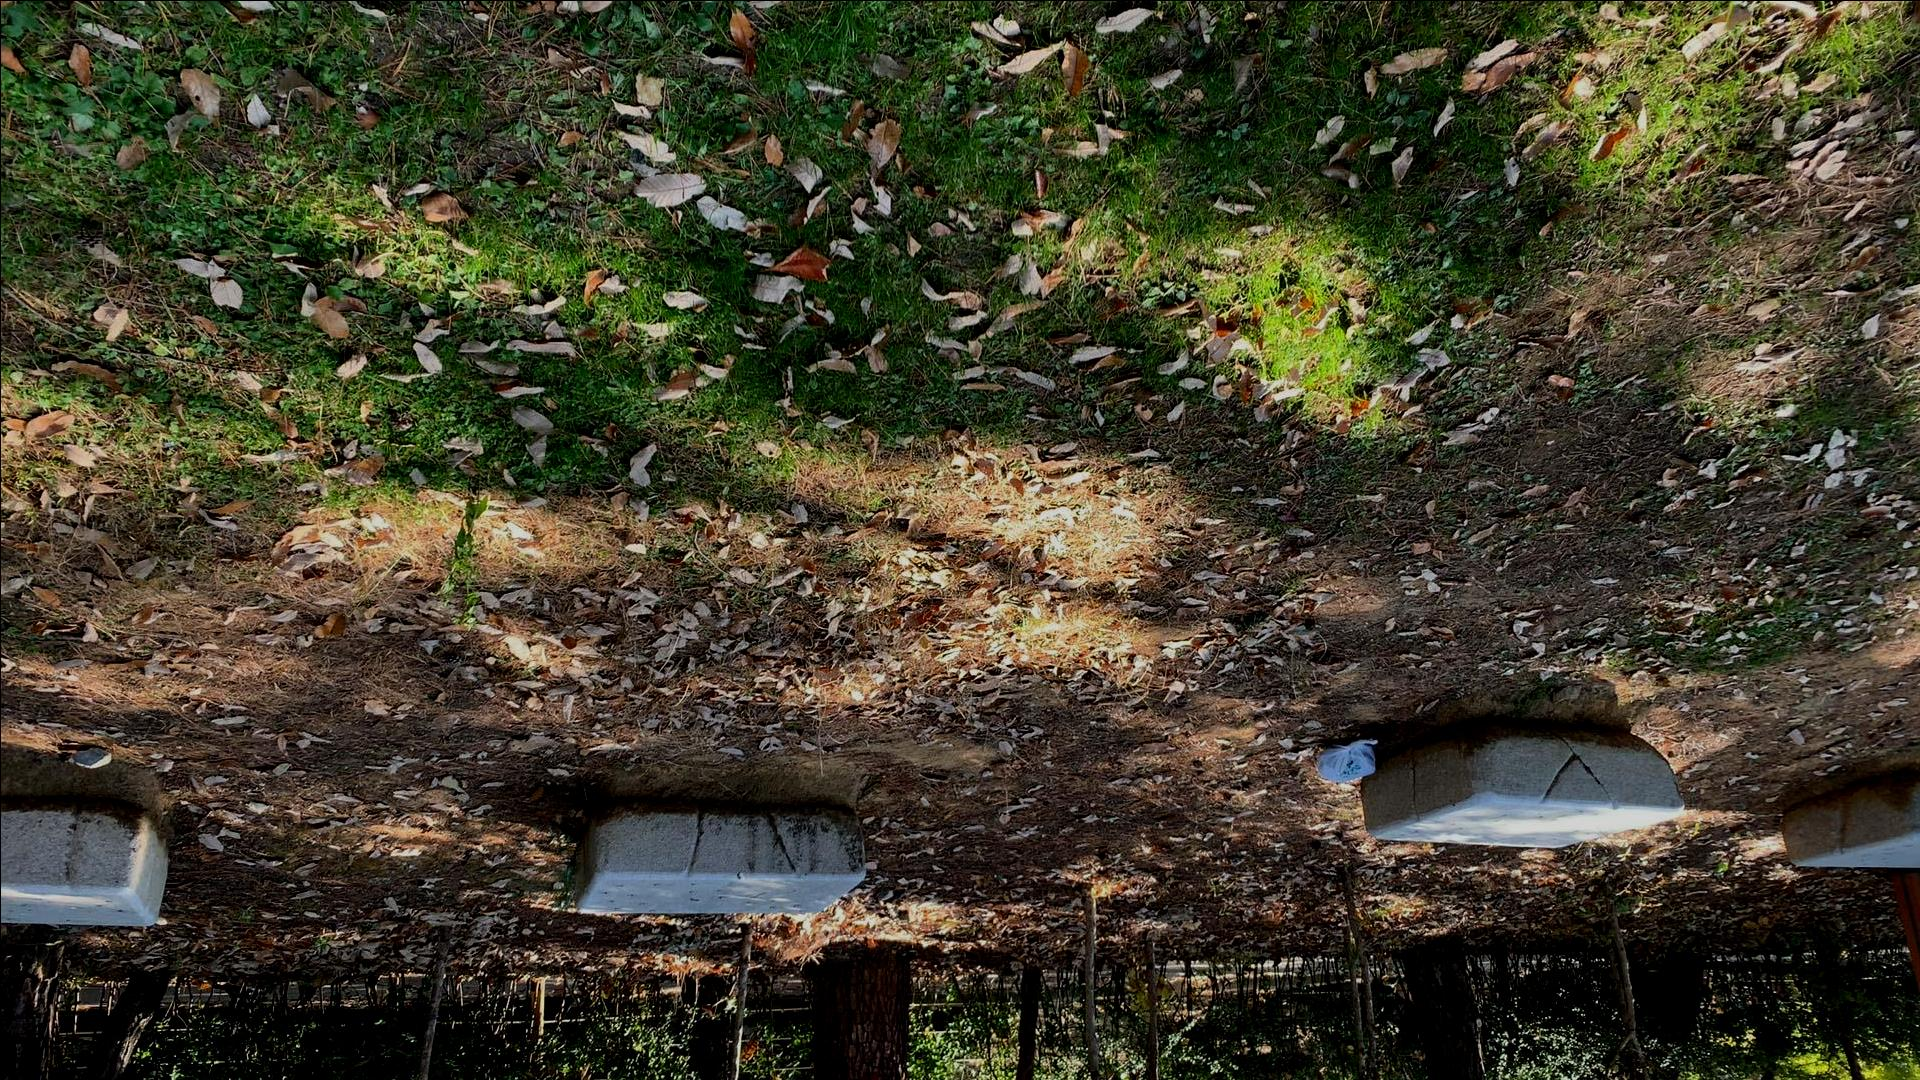white_bag: (1311, 735, 1381, 787)
